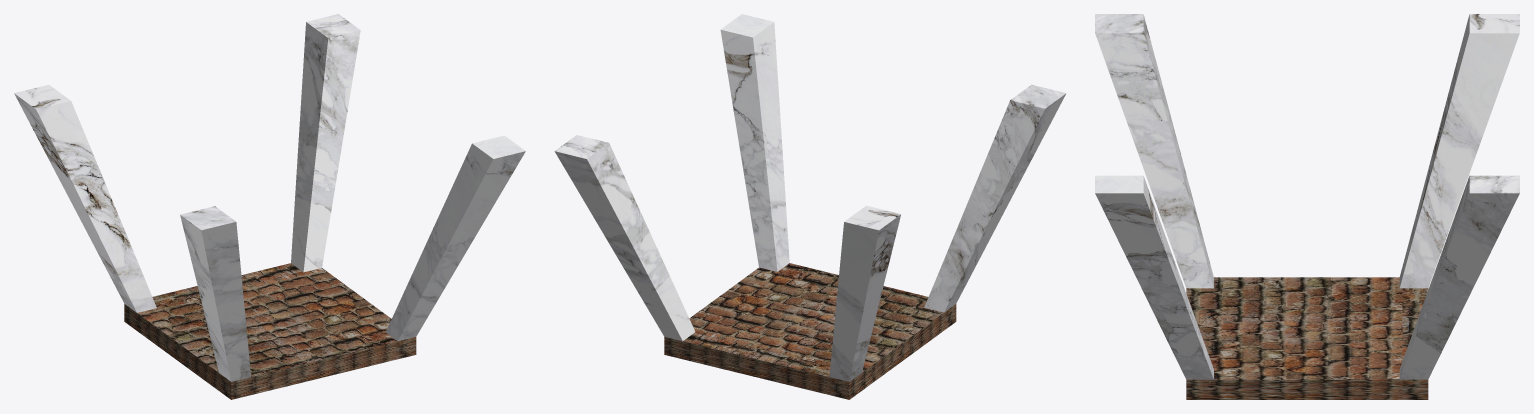
The model's file is MultiText.dae.
3 views of the same model, side by side, from view 1: azimuth 30°, elevation 25°; view 2: azimuth 150°, elevation 25°; view 3: azimuth 270°, elevation 25° (orthographic). The views are drawn at different scales.
Parts seen in each view (by area): view 1: Cube; view 2: Cube; view 3: Cube.
Part boxes in pixels (<box>): Cube: <box>14,14,525,399</box>; Cube: <box>554,14,1066,399</box>; Cube: <box>1095,14,1519,399</box>.
Bounding box in the file's own units: 20.11 × 20.11 × 12.8.
